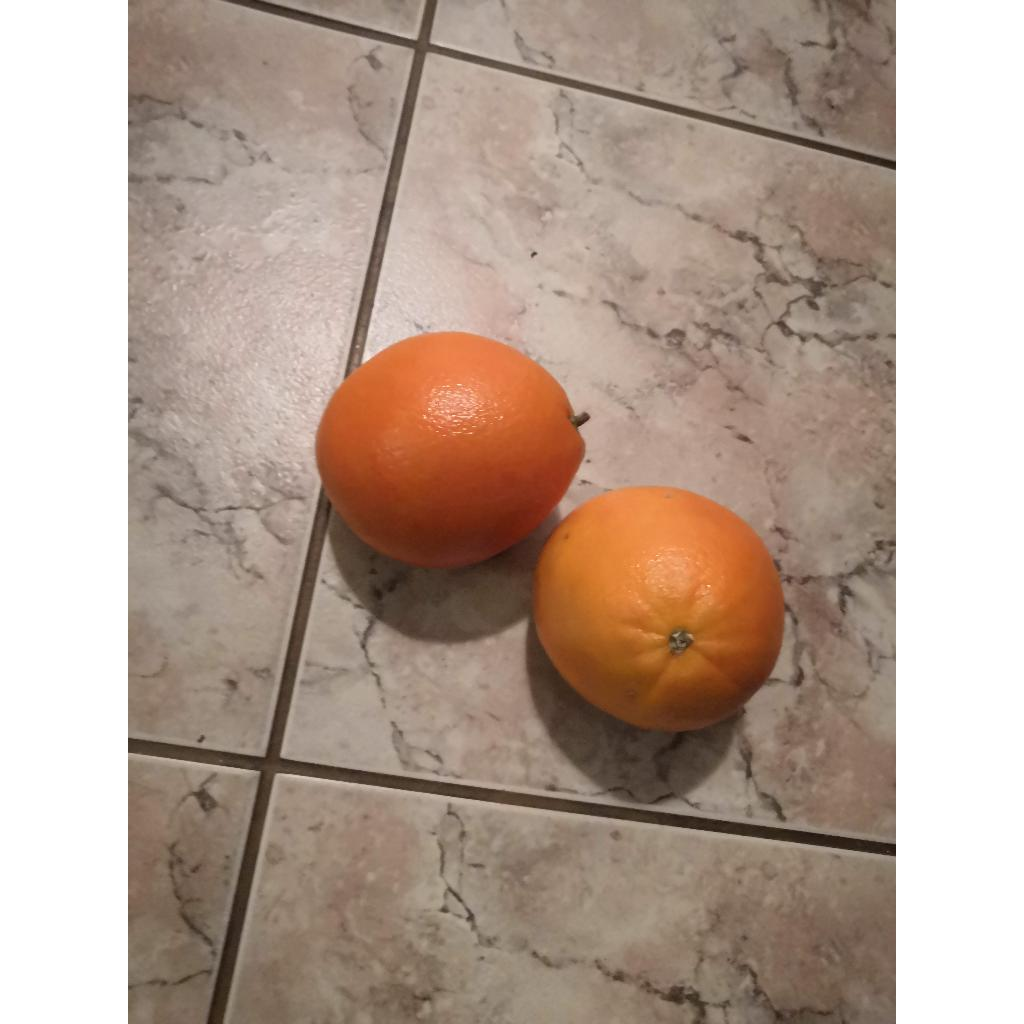orange: (316, 332, 584, 568), (534, 486, 784, 732)
